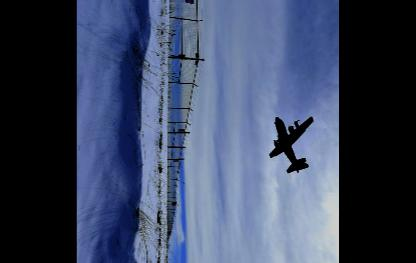Be200: (270, 116, 314, 173)
